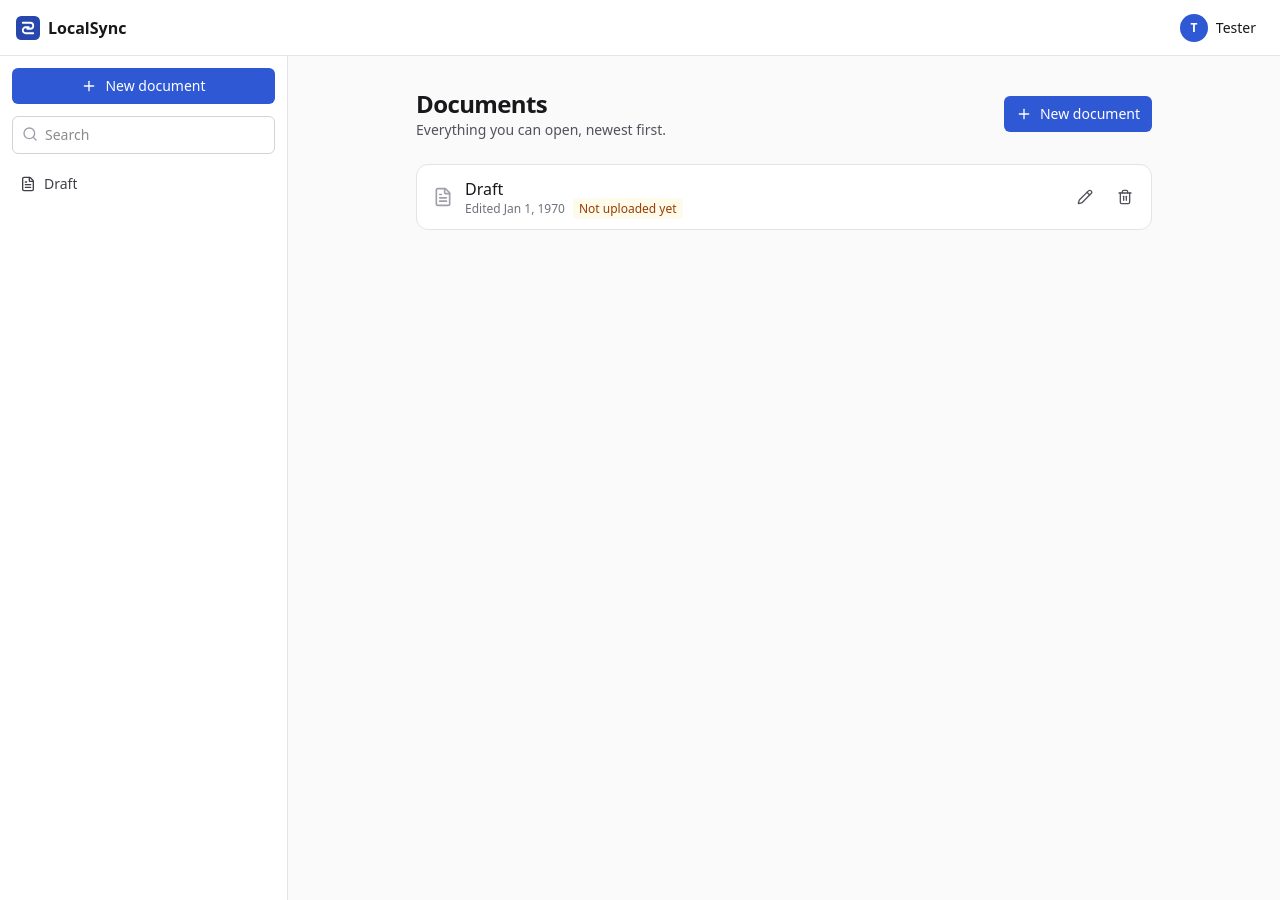
Scenario: dashboard › renames a document from the list
This screenshot has width=1280, height=900.
Click the button named "Rename Draft".
click(1085, 197)  # box 1067,179 -> 1103,215
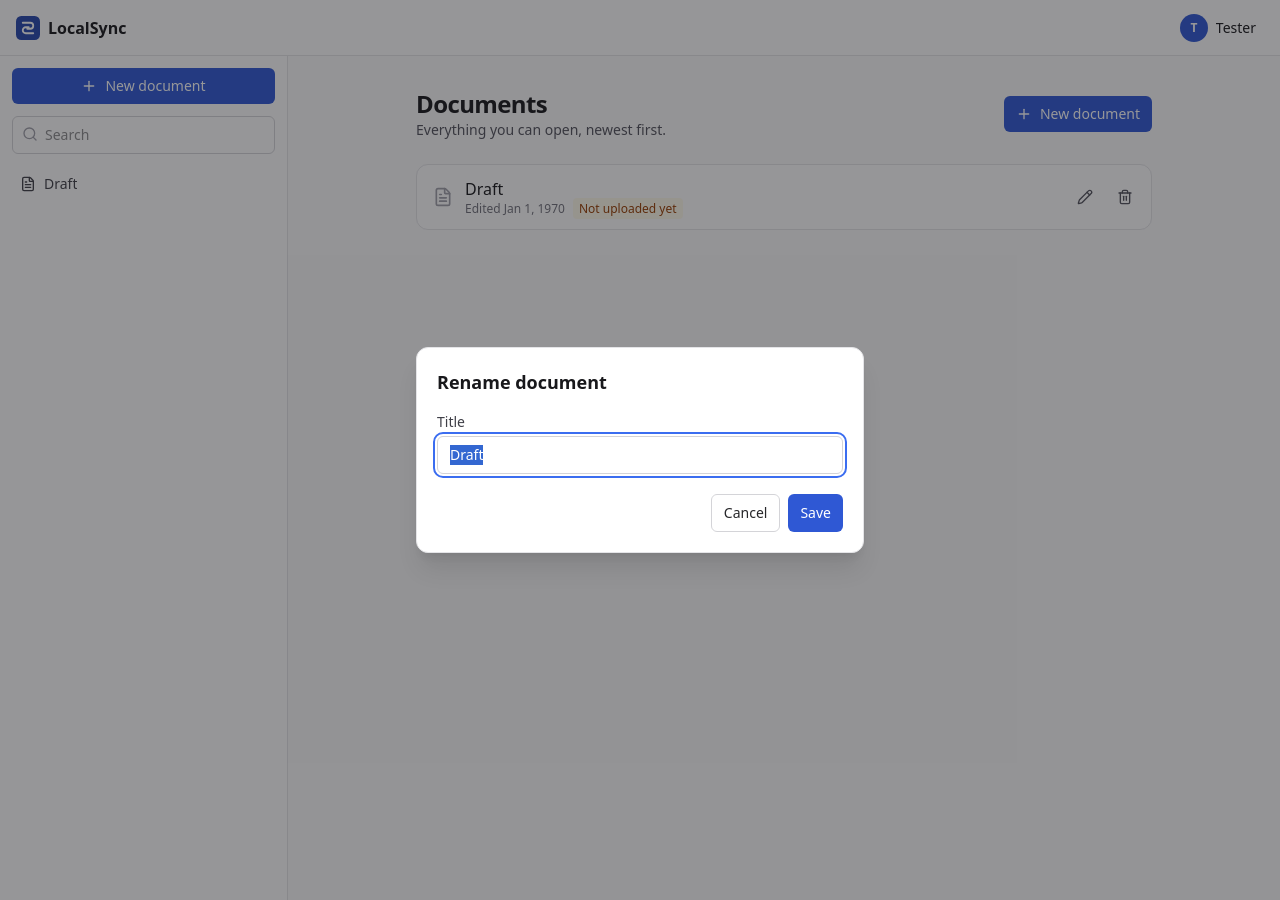
Replace the text in the field labelled "Title" with "Final report" at (640, 455), box 437,436 -> 843,474
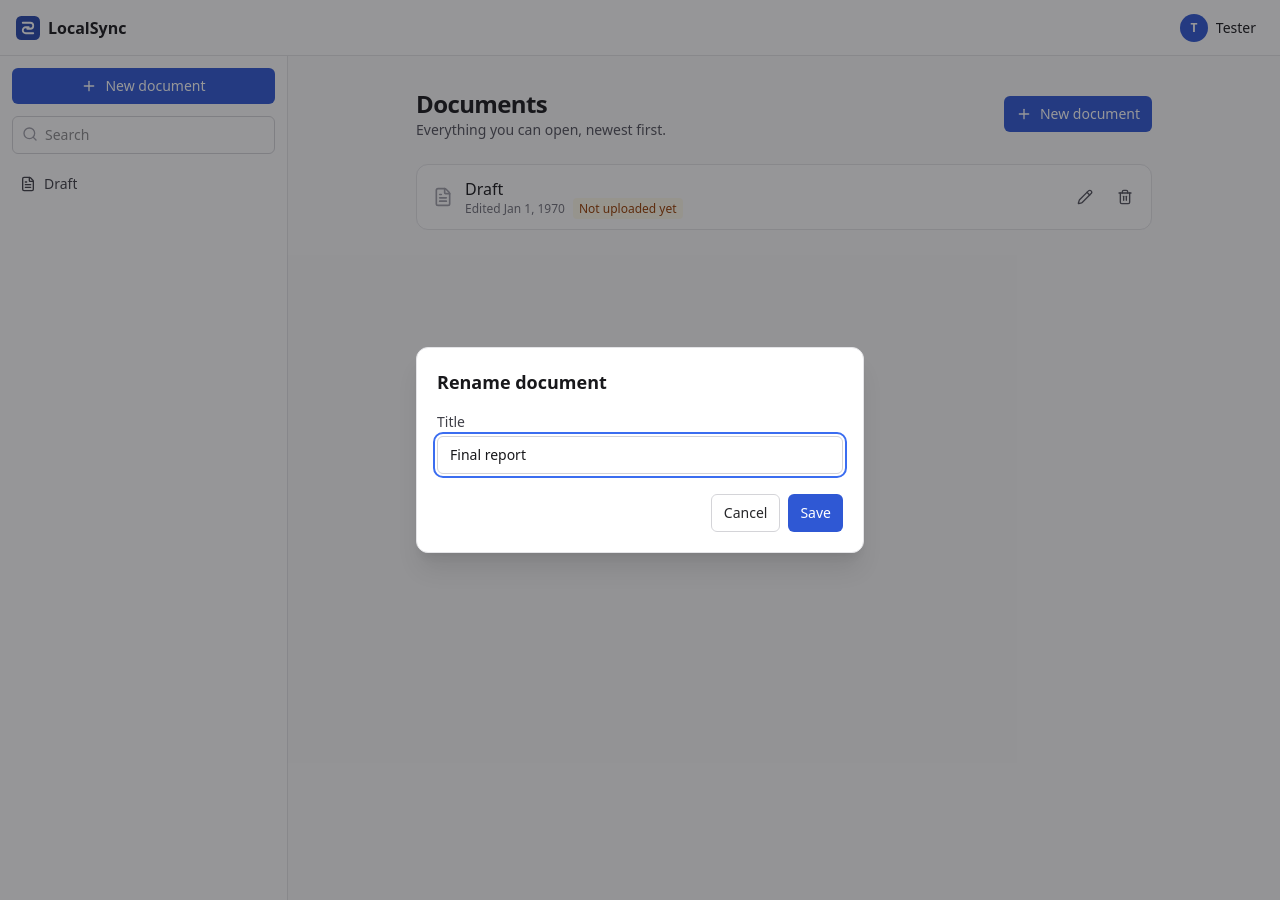
Click the button "Save".
click(816, 513)  # box 788,494 -> 843,532
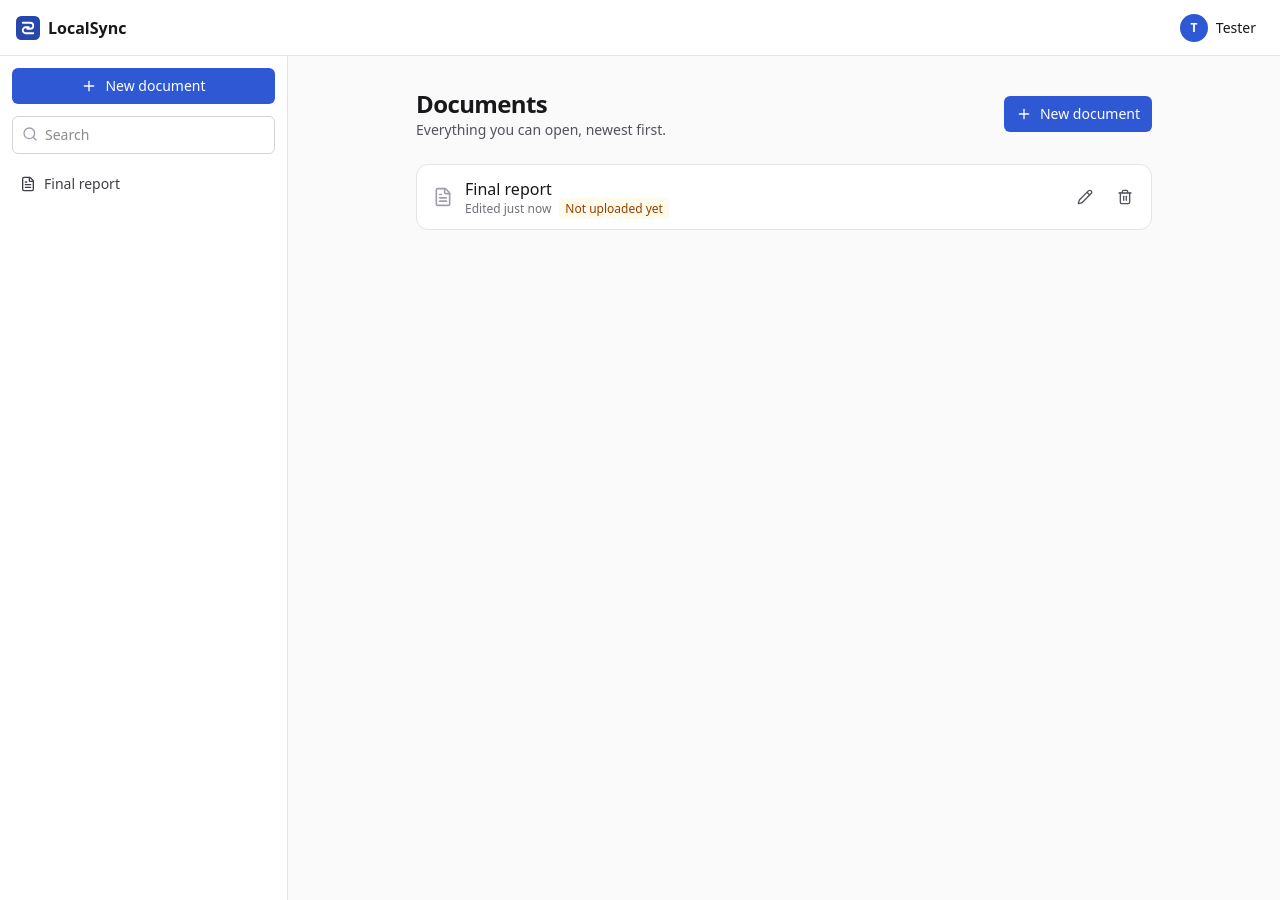
Expected: the button named "Rename Final report" is shown, 1067,179 -> 1103,215
